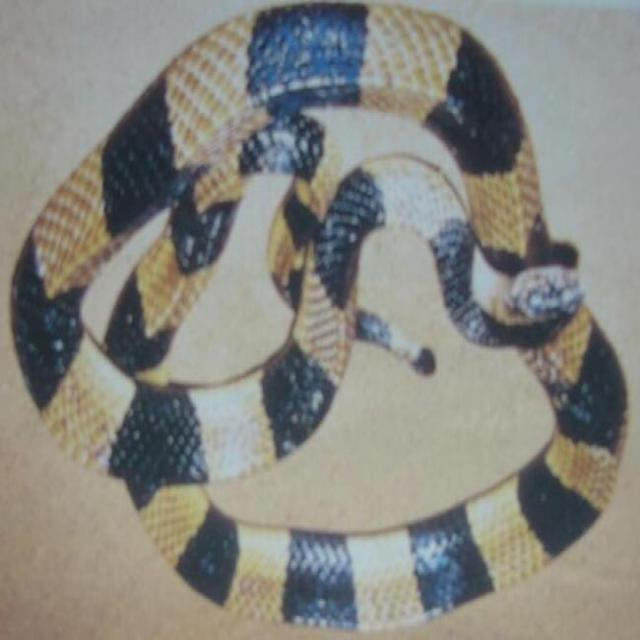Venomous: (11, 9, 640, 632)
